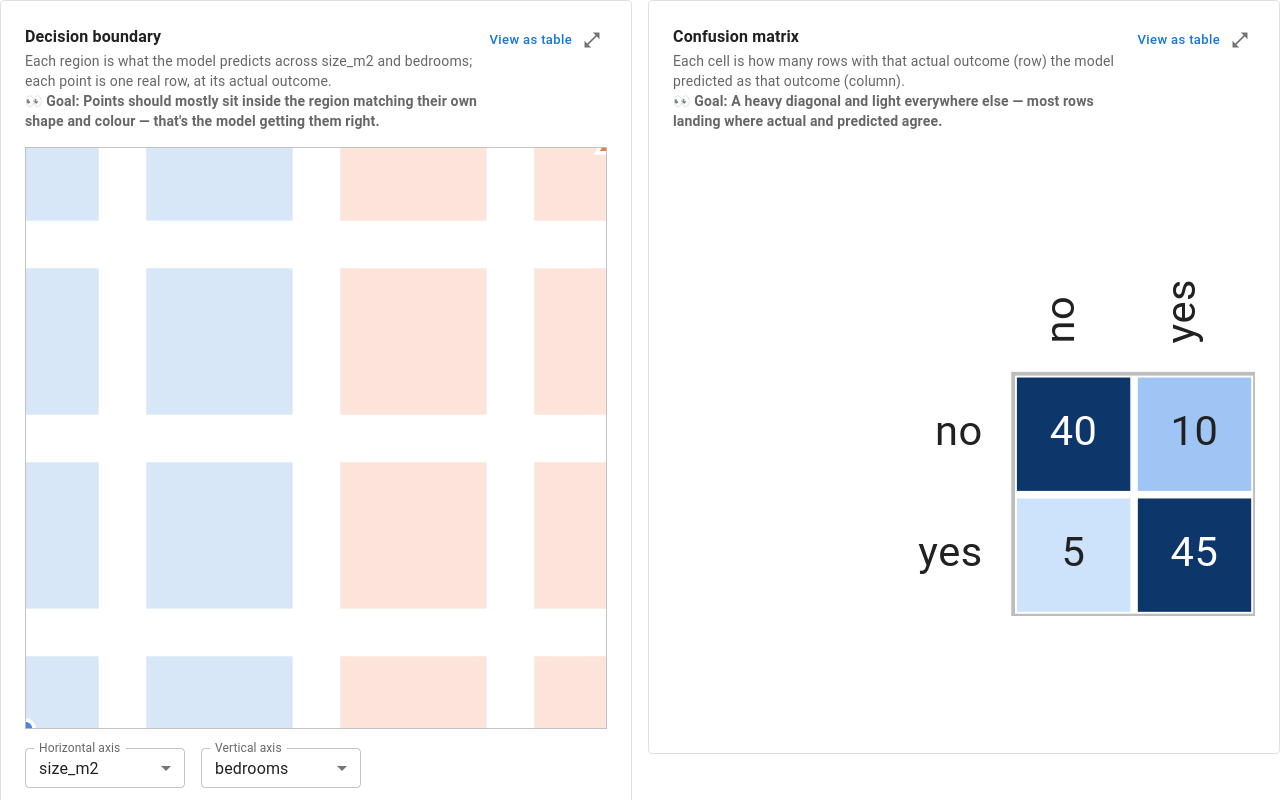
Test case: re-fetches with the chosen pair when the axis selects change
Expected: the text "Decision boundary" is shown, [25,27,161,46]
Click the dropdown named "horizontal axis": click(69, 768) [39,759,99,778]
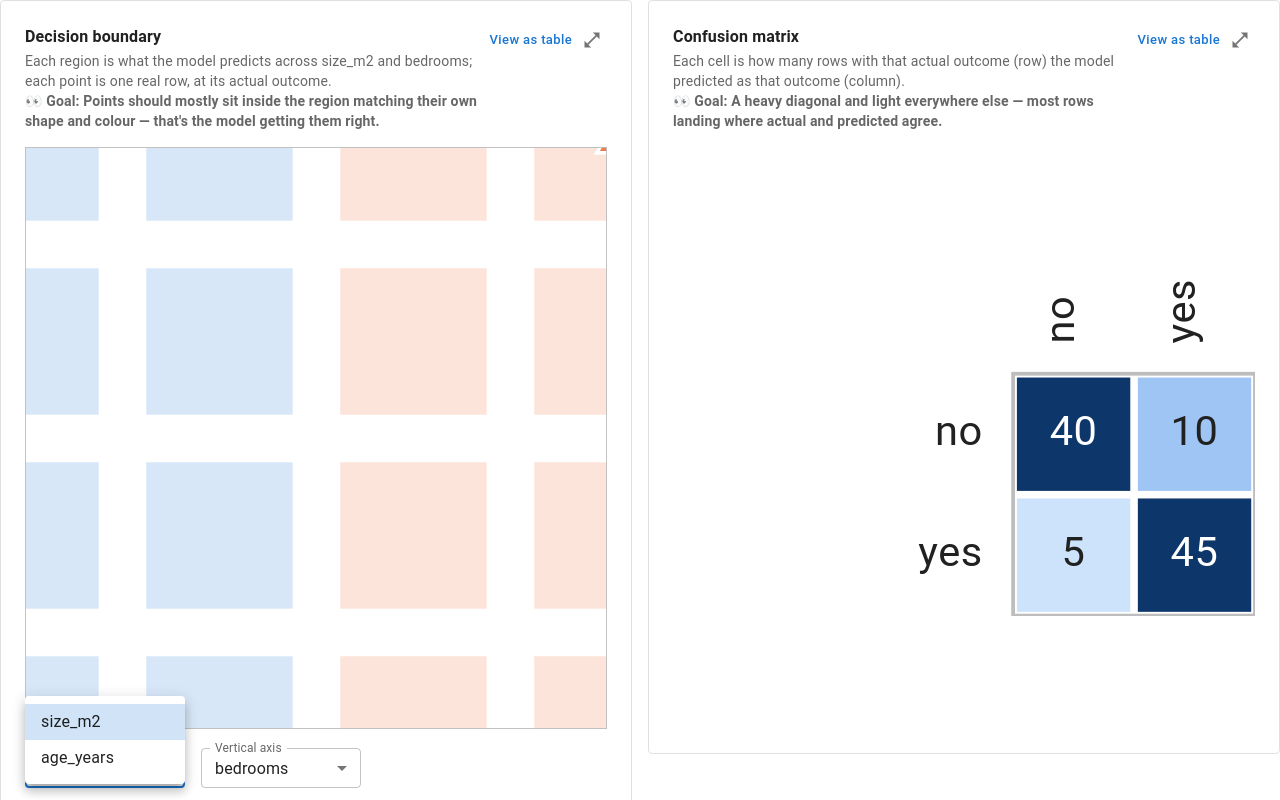
Click the option "age_years": click(78, 758) [41,748,114,767]
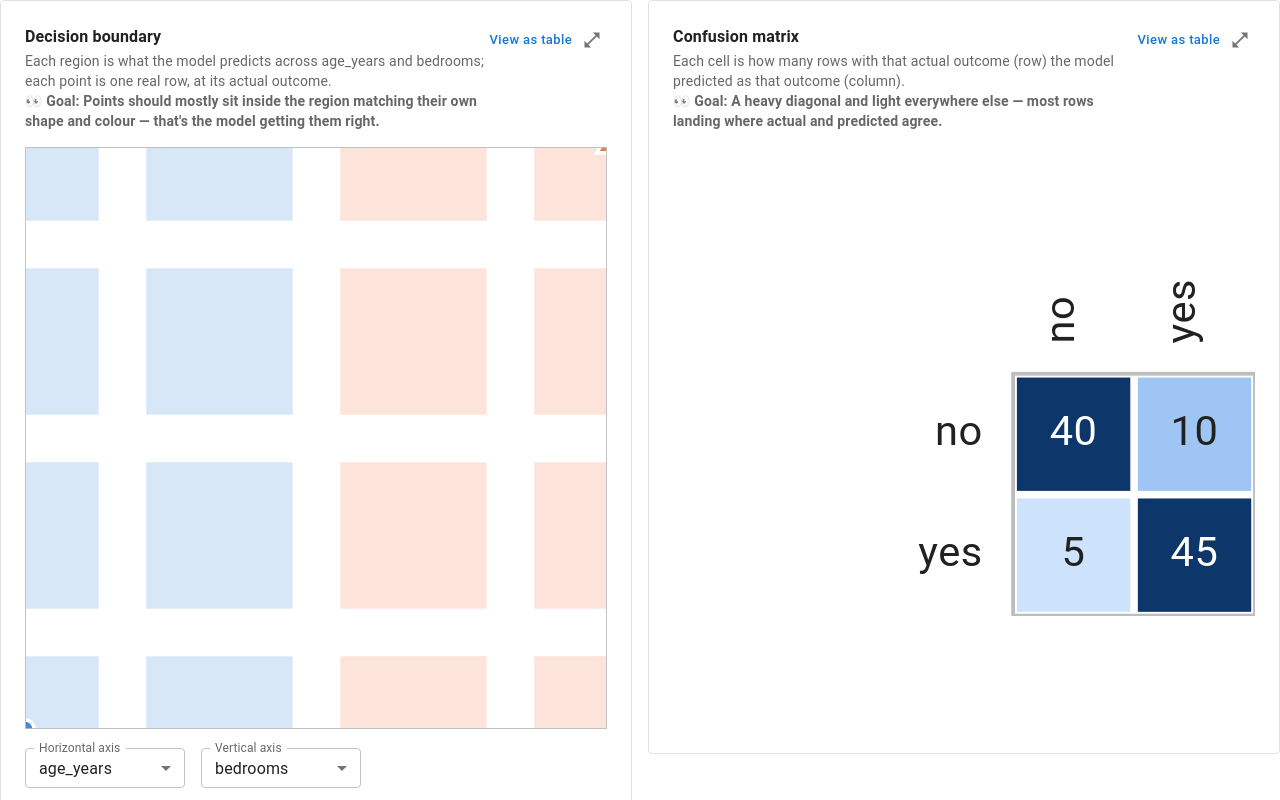
Expected: the dropdown labelled "age_years" is shown, [39,759,112,778]
